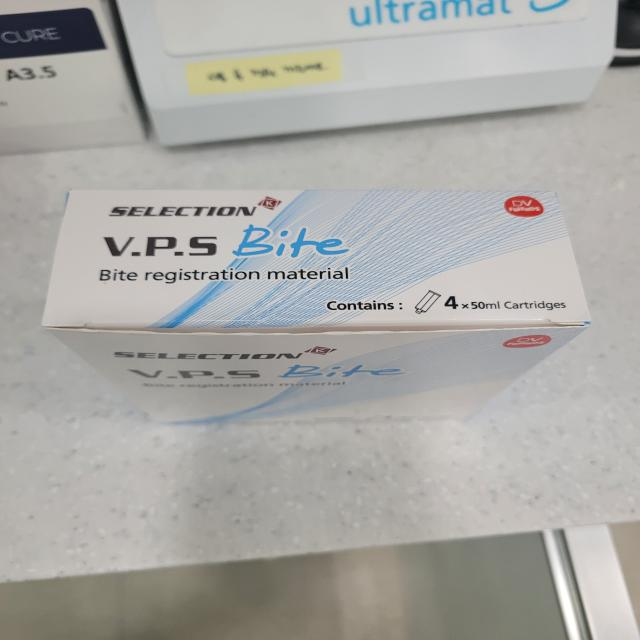impression: (22, 174, 640, 452)
